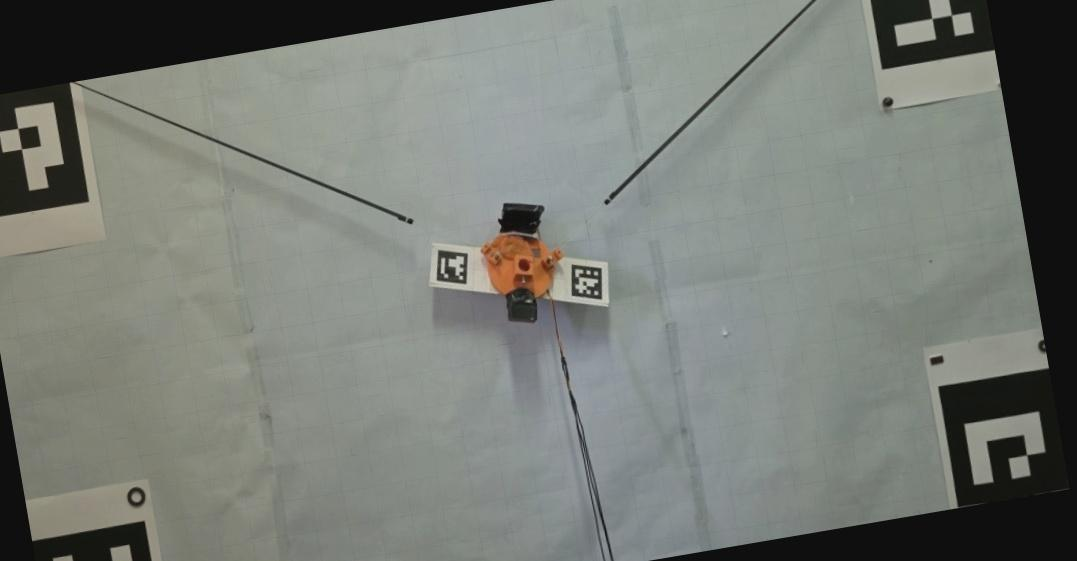robot: (479, 202, 567, 323)
